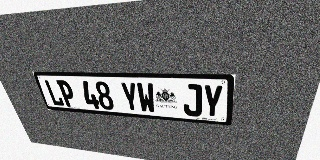4: (79, 81, 101, 109)
8: (94, 81, 115, 110)
J: (183, 84, 202, 117)
L: (43, 80, 65, 106)
P: (56, 80, 77, 107)
W: (136, 82, 156, 113)
Y: (202, 84, 224, 118), (119, 82, 140, 112)
